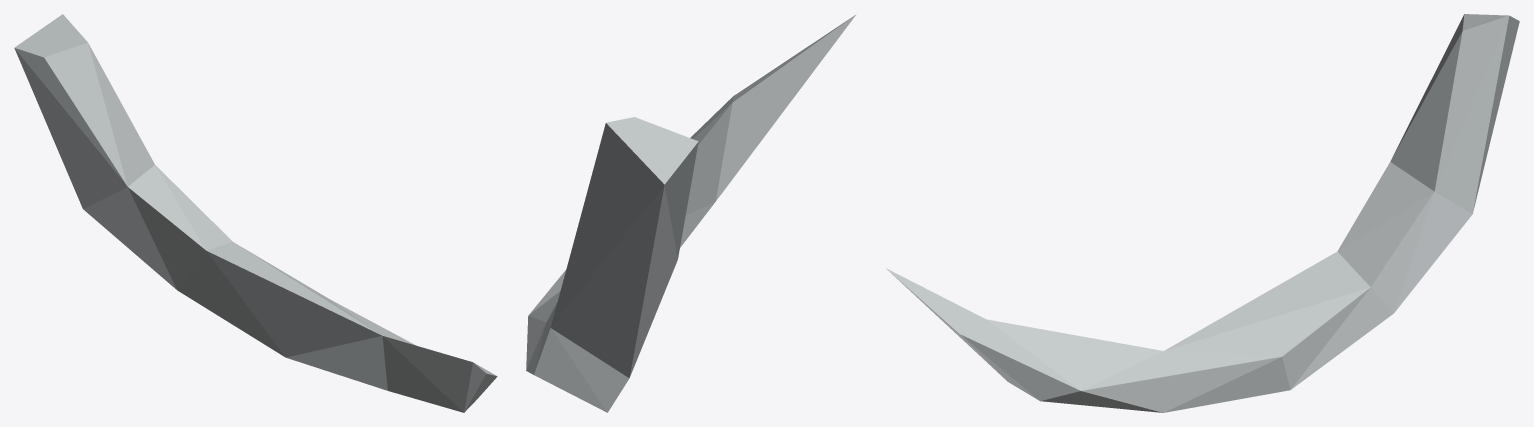
Rendered from Horn1 (1).fbx.
The picture shows the model from 3 angles, left to right: view 1: azimuth 30°, elevation 25°; view 2: azimuth 150°, elevation 25°; view 3: azimuth 270°, elevation 25°; orthographic projection. The views are drawn at different scales.
Parts seen in each view (by area): view 1: Mammoth.002; view 2: Mammoth.002; view 3: Mammoth.002.
Part boxes in pixels (x1,y1,x2,y2): Mammoth.002: [14, 14, 497, 412]; Mammoth.002: [526, 14, 856, 412]; Mammoth.002: [886, 14, 1519, 412].
Size of the model in its own units: 0.3036 by 0.348 by 0.6492.
1 material, 1 textured.
